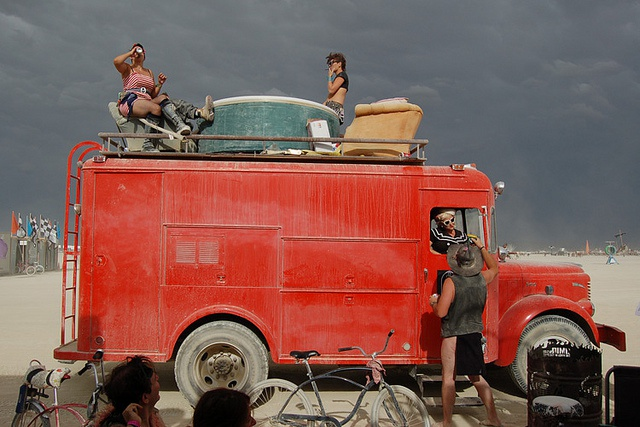non-vehicle: (245, 329, 429, 427), (11, 347, 109, 426), (17, 262, 36, 277)
